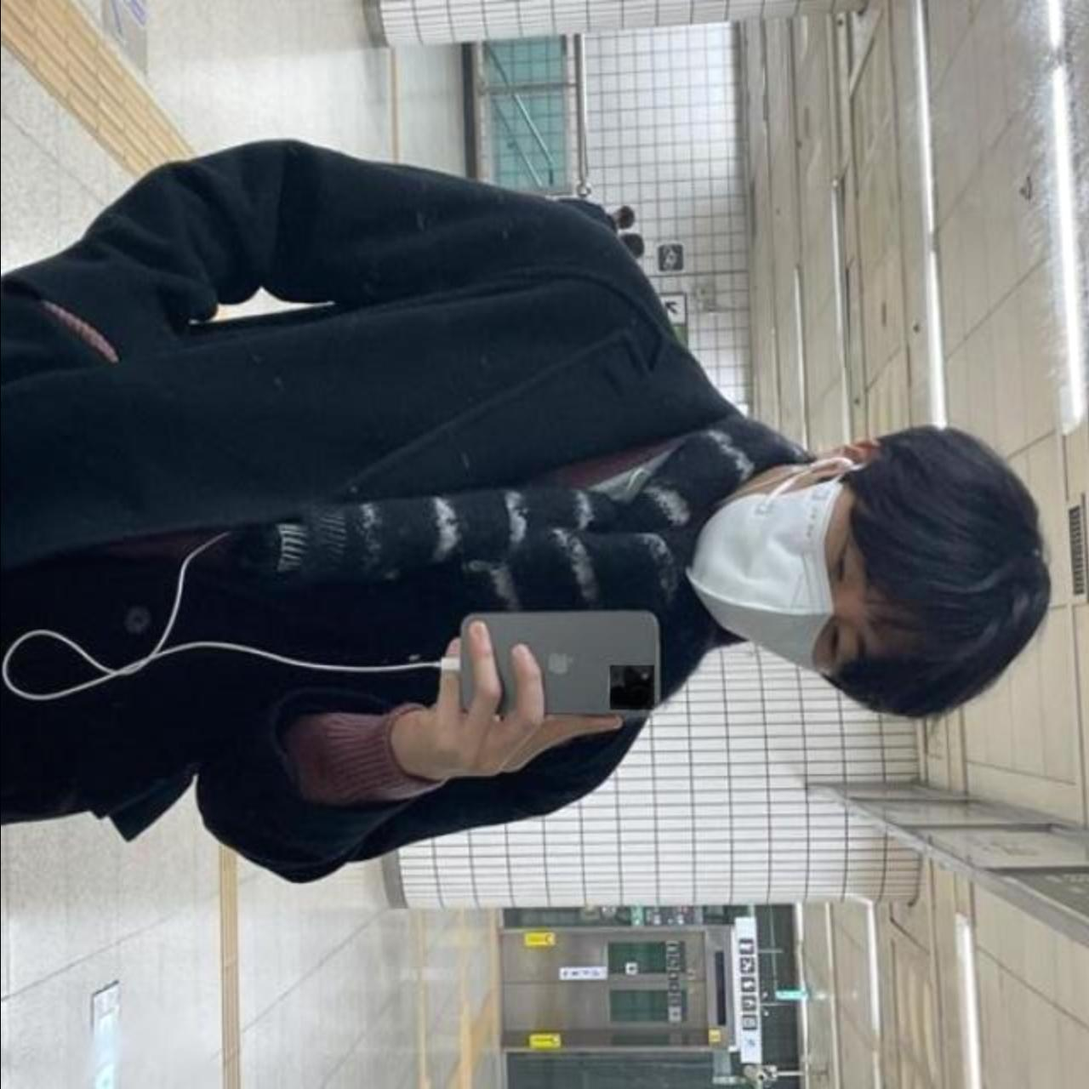phone: (454, 611, 667, 725)
